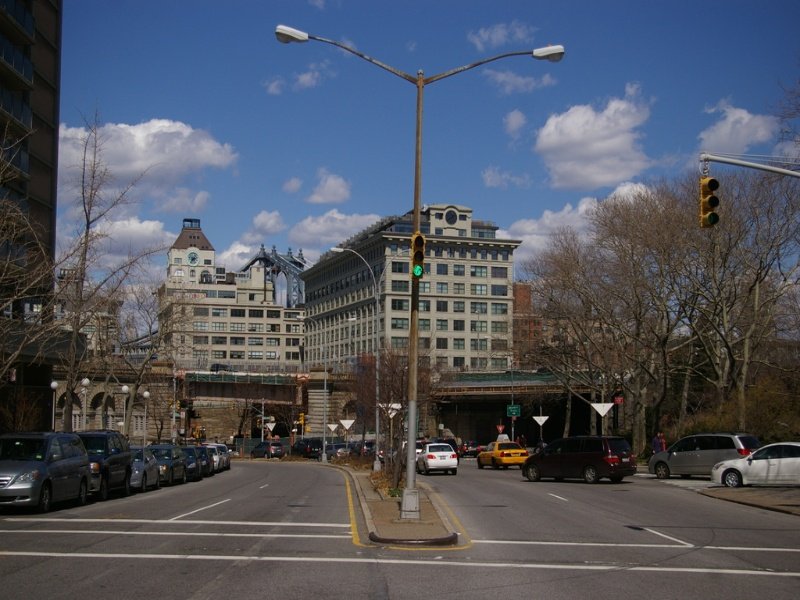green_light: (410, 261, 426, 279)
no_entry: (408, 263, 428, 277)
